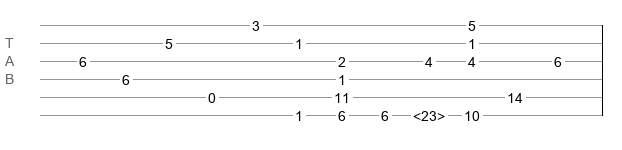0: (208, 90, 216, 100)
1: (295, 36, 303, 46), (295, 108, 303, 118), (338, 72, 346, 82), (468, 36, 476, 46)
10: (464, 108, 480, 118)
11: (334, 90, 350, 100)
14: (507, 90, 523, 100)
2: (338, 54, 346, 64)
3: (252, 18, 260, 28)
4: (425, 54, 433, 64), (468, 54, 476, 64)
5: (165, 36, 173, 46), (468, 18, 476, 28)
6: (79, 54, 87, 64), (122, 72, 130, 82), (338, 108, 346, 118), (381, 108, 389, 118), (554, 54, 562, 64)
harmonic: (413, 108, 445, 118)
